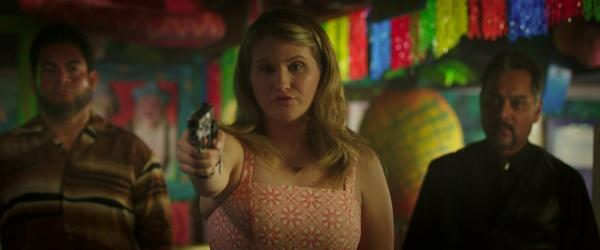Gun: (187, 103, 217, 179)
